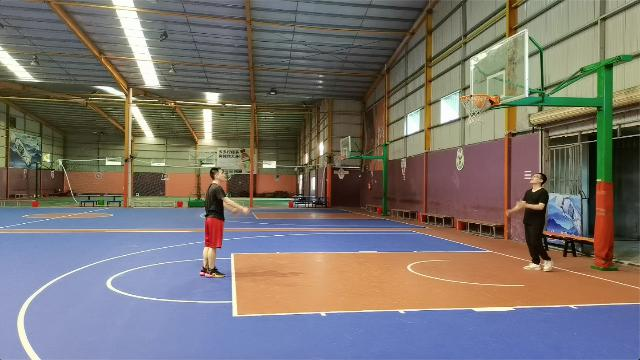basket: (459, 93, 489, 124)
goal: (472, 94, 488, 109)
